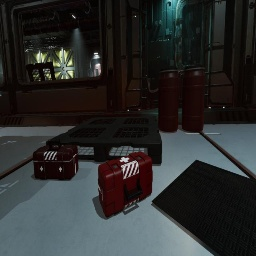FirstAidBox ,: (98, 151, 153, 218), (33, 139, 78, 180)
